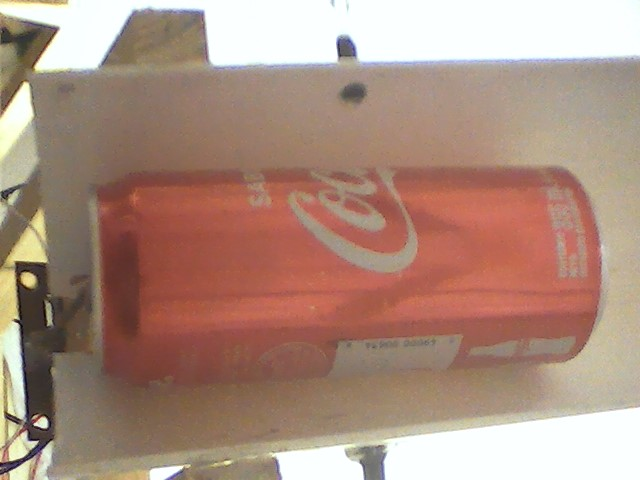lata: (82, 162, 615, 391)
